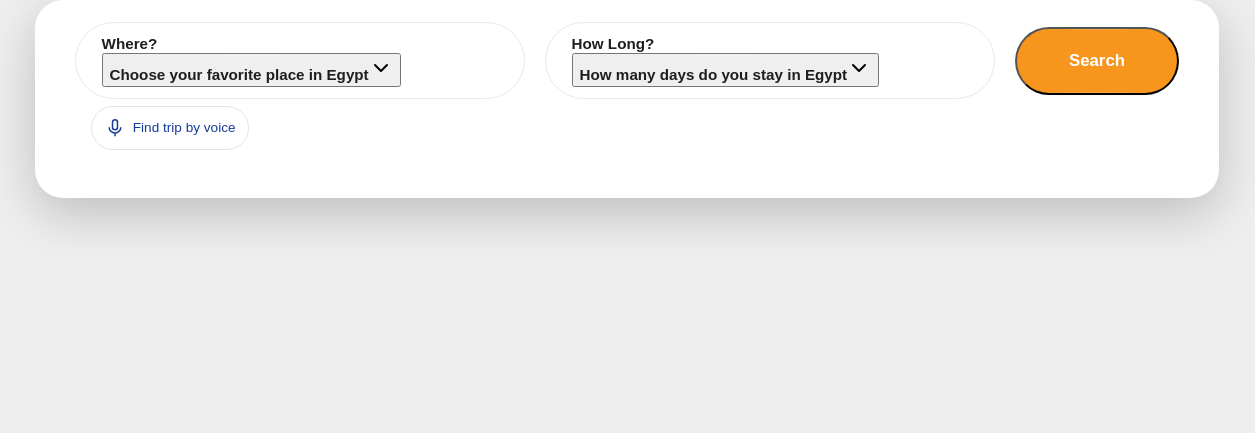
Test: Smart Voice integrates with the existing Find Trip › no useful fields shows the transcript without fabricating or submitting
The width and height of the screenshot is (1255, 433).
Click the button "Find trip by voice" at (170, 128), box [91,106,249,150]
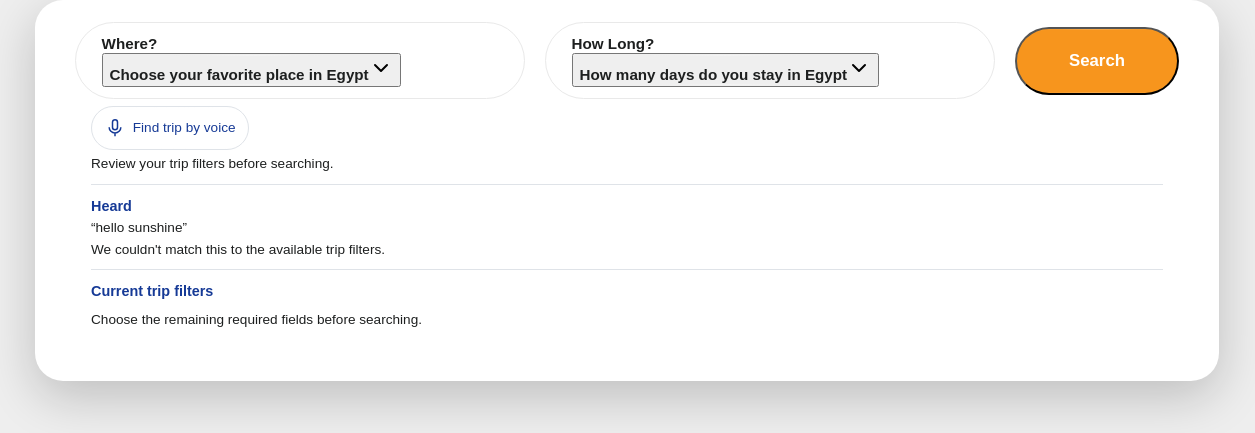
Result: the element "Heard" is shown at [91,184,1163,256]
Result: the text "Review your trip filters before searching." is shown at [91,156,334,171]
Result: the text "We couldn't match this to the available trip filters." is shown at [91,242,385,256]
